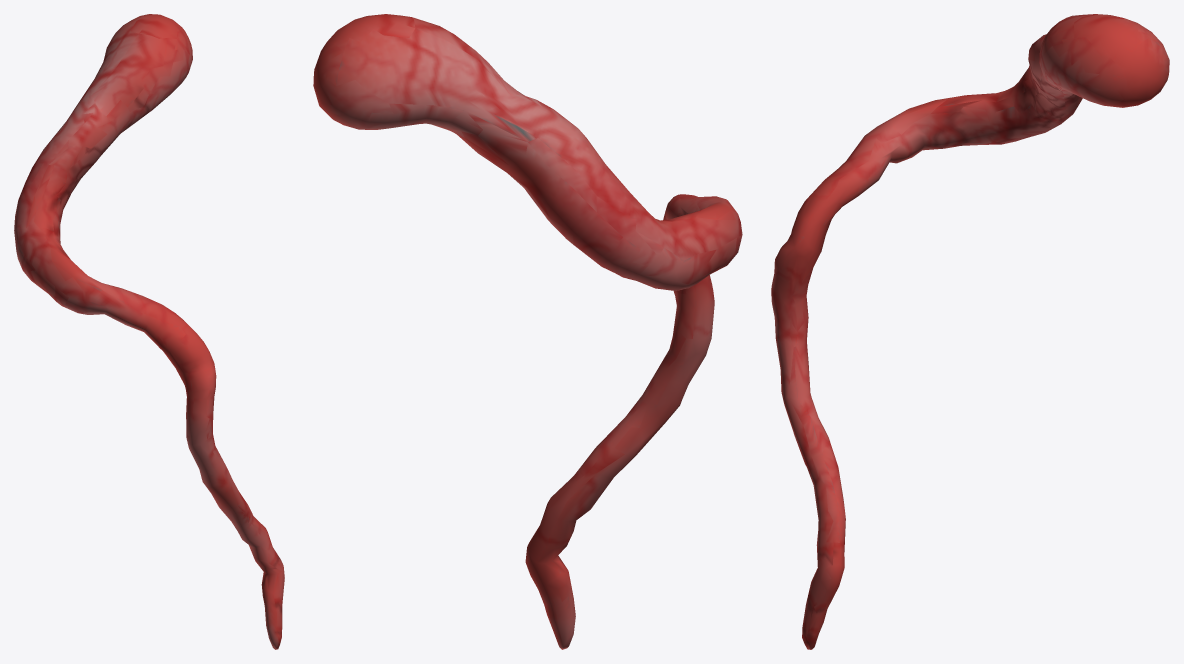
File: Tentacles01.obj
3 renders of one model, left to right at view 1: azimuth 30°, elevation 25°; view 2: azimuth 150°, elevation 25°; view 3: azimuth 270°, elevation 25°, orthographic. The views are drawn at different scales.
Visible parts, largest first — view 1: shokushu_shokushu_material_0.001; view 2: shokushu_shokushu_material_0.001; view 3: shokushu_shokushu_material_0.001.
Boxes of the visible parts, left/top/right/bottom form: shokushu_shokushu_material_0.001: left=14, top=14, right=284, bottom=649; shokushu_shokushu_material_0.001: left=313, top=14, right=742, bottom=649; shokushu_shokushu_material_0.001: left=771, top=14, right=1169, bottom=649.
Size of the model in its own units: 0.2909 by 0.6942 by 0.3964.
1 material, 1 textured.
